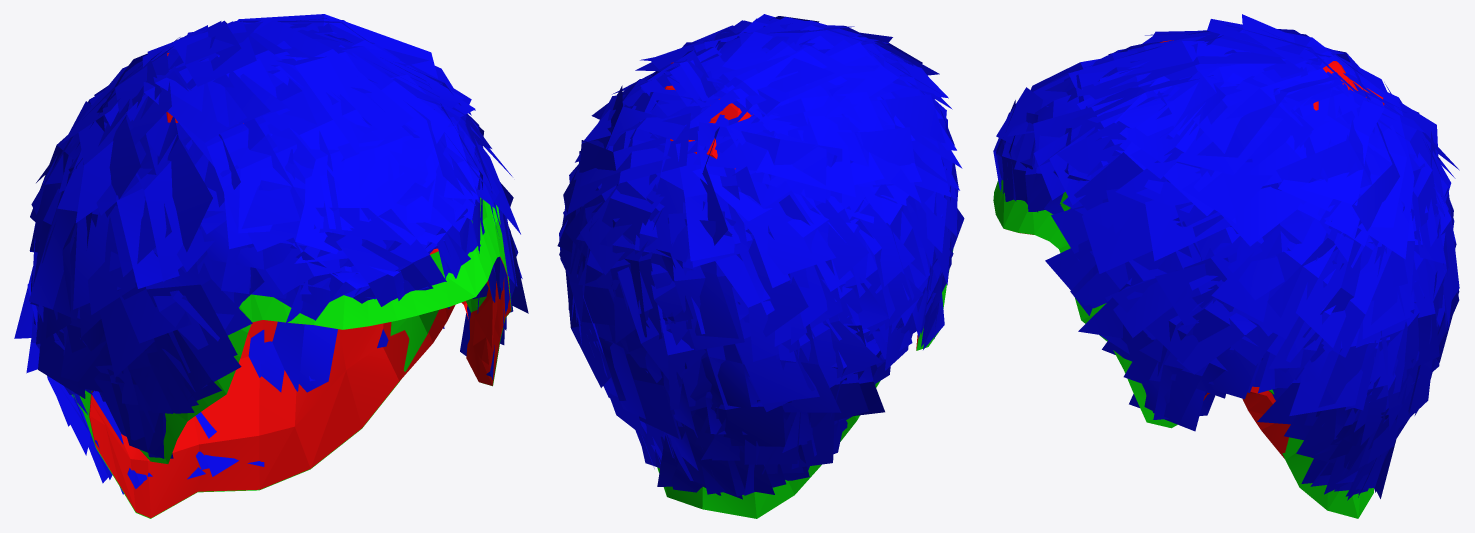
Rendered from hair_010.obj.
3 renders of one model, left to right at view 1: azimuth 30°, elevation 25°; view 2: azimuth 150°, elevation 25°; view 3: azimuth 270°, elevation 25°, orthographic. The views are drawn at different scales.
Bounding box in the file's own units: 19.58 × 22.36 × 20.82.
